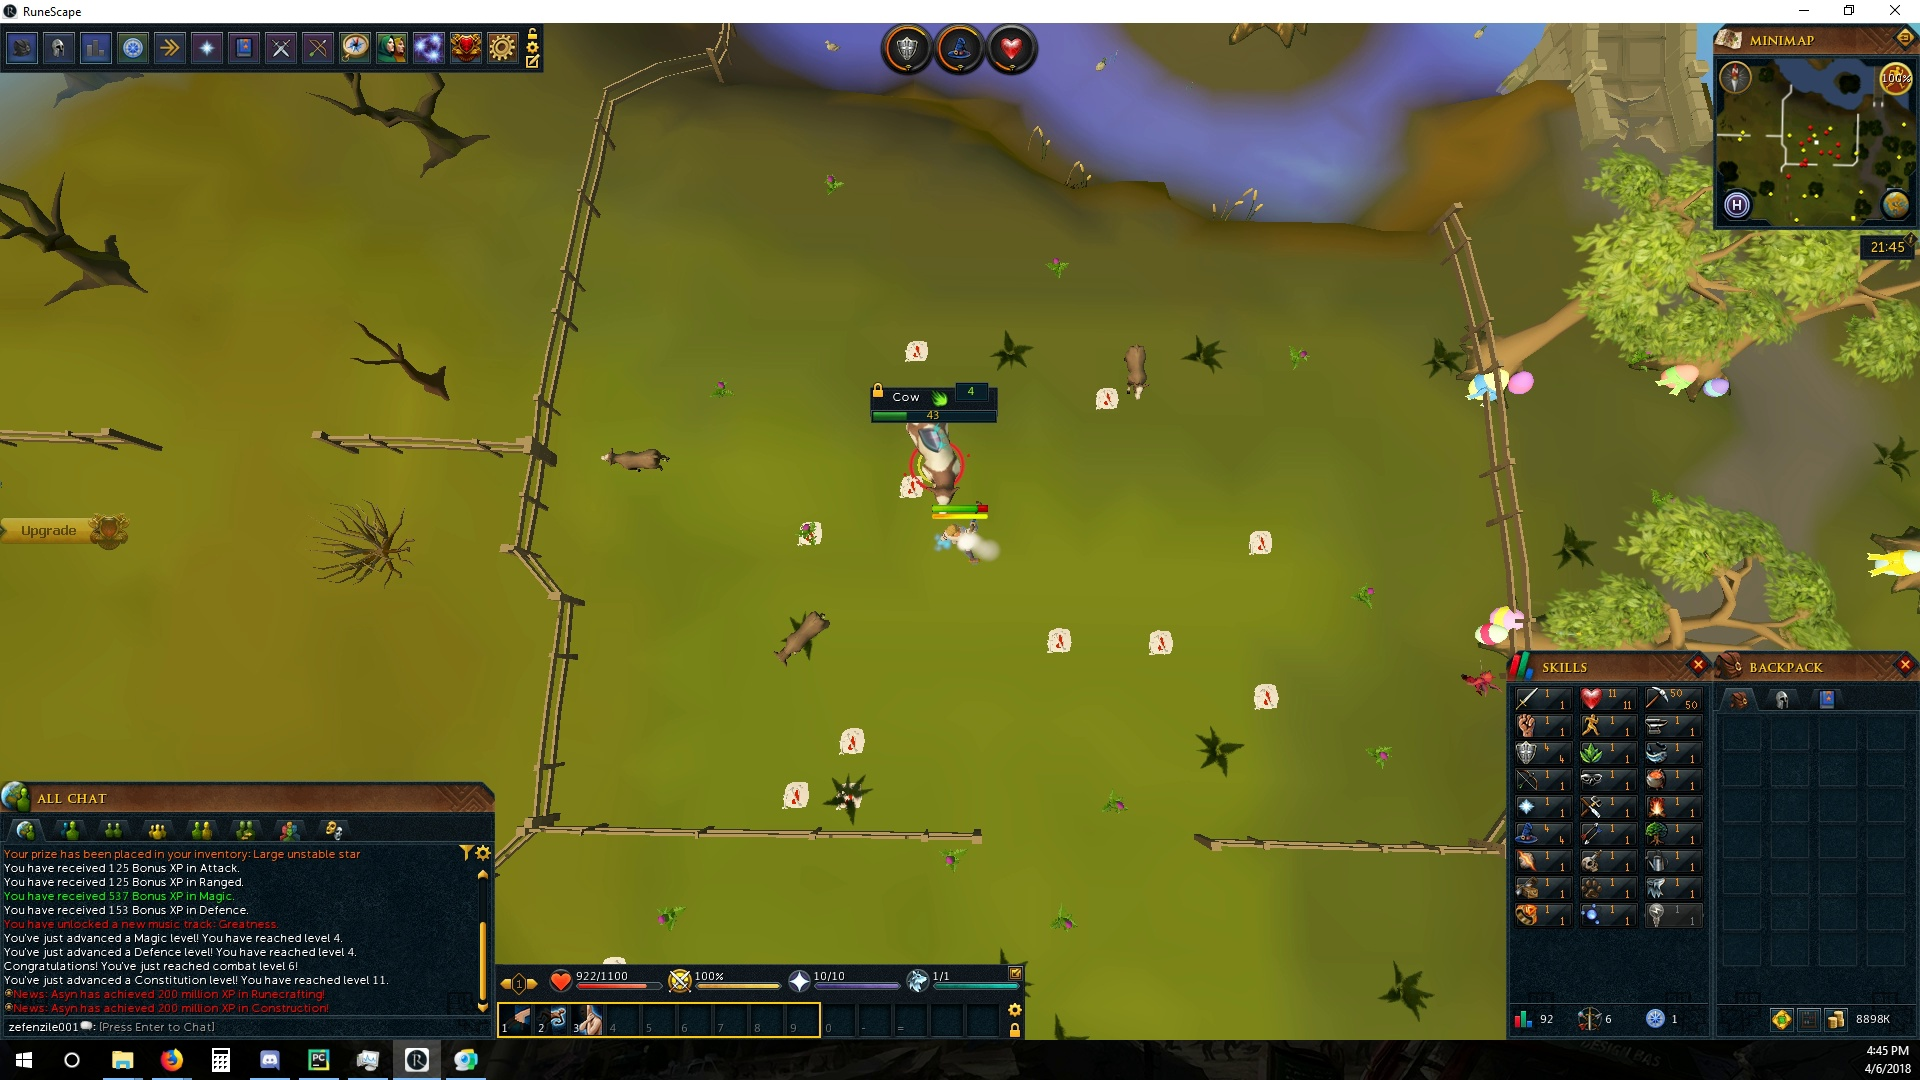calf: (773, 611, 833, 666), (600, 444, 675, 475), (1120, 344, 1153, 402)
cow: (899, 422, 967, 512)
cow_drop: (787, 520, 832, 549), (1038, 622, 1075, 657), (832, 775, 865, 810), (1250, 679, 1280, 713), (781, 778, 810, 814), (889, 473, 923, 502), (901, 334, 934, 361), (1145, 626, 1174, 657), (839, 727, 869, 754), (1247, 527, 1274, 558), (1095, 386, 1124, 411)
